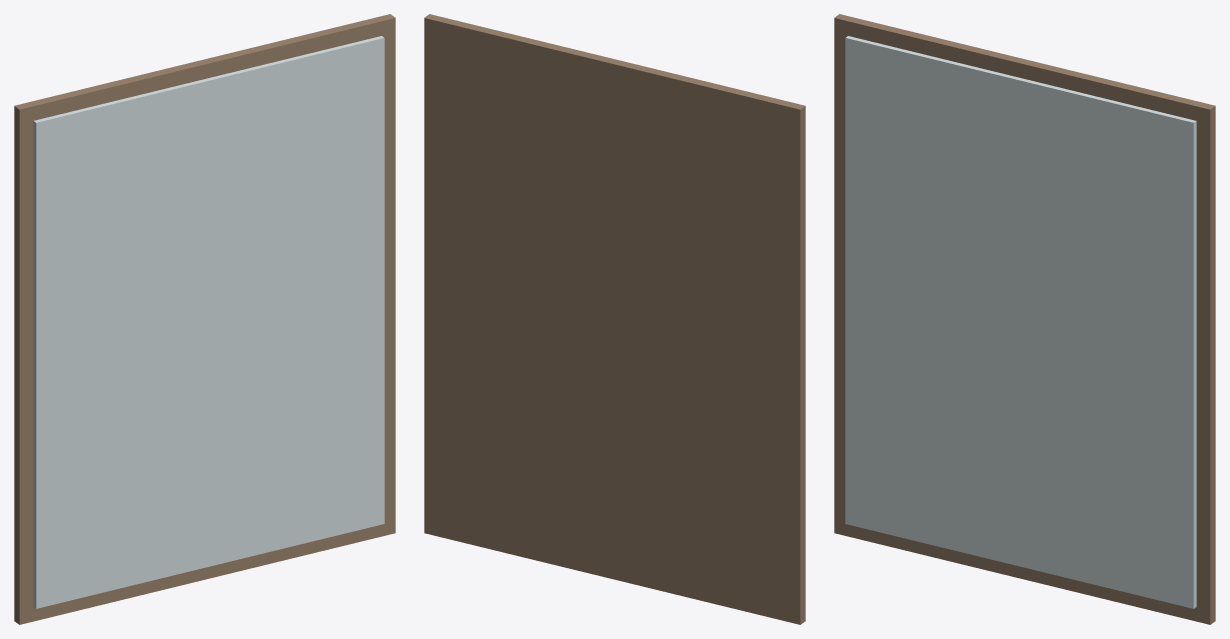
The model's file is mirror.gltf.
3 views of the same model, side by side, from view 1: azimuth 30°, elevation 25°; view 2: azimuth 150°, elevation 25°; view 3: azimuth 330°, elevation 25° (orthographic).
Parts seen in each view (by area): view 1: Glass, Frame; view 2: Frame; view 3: Glass, Frame.
Part boxes in pixels (x1,y1,x2,y2): Glass: (33, 36, 384, 608); Frame: (14, 14, 395, 624); Frame: (424, 14, 805, 624); Glass: (845, 36, 1196, 608); Frame: (834, 14, 1215, 624).
Size of the model in its own units: 0.0506 by 0.0662 by 0.00187.
